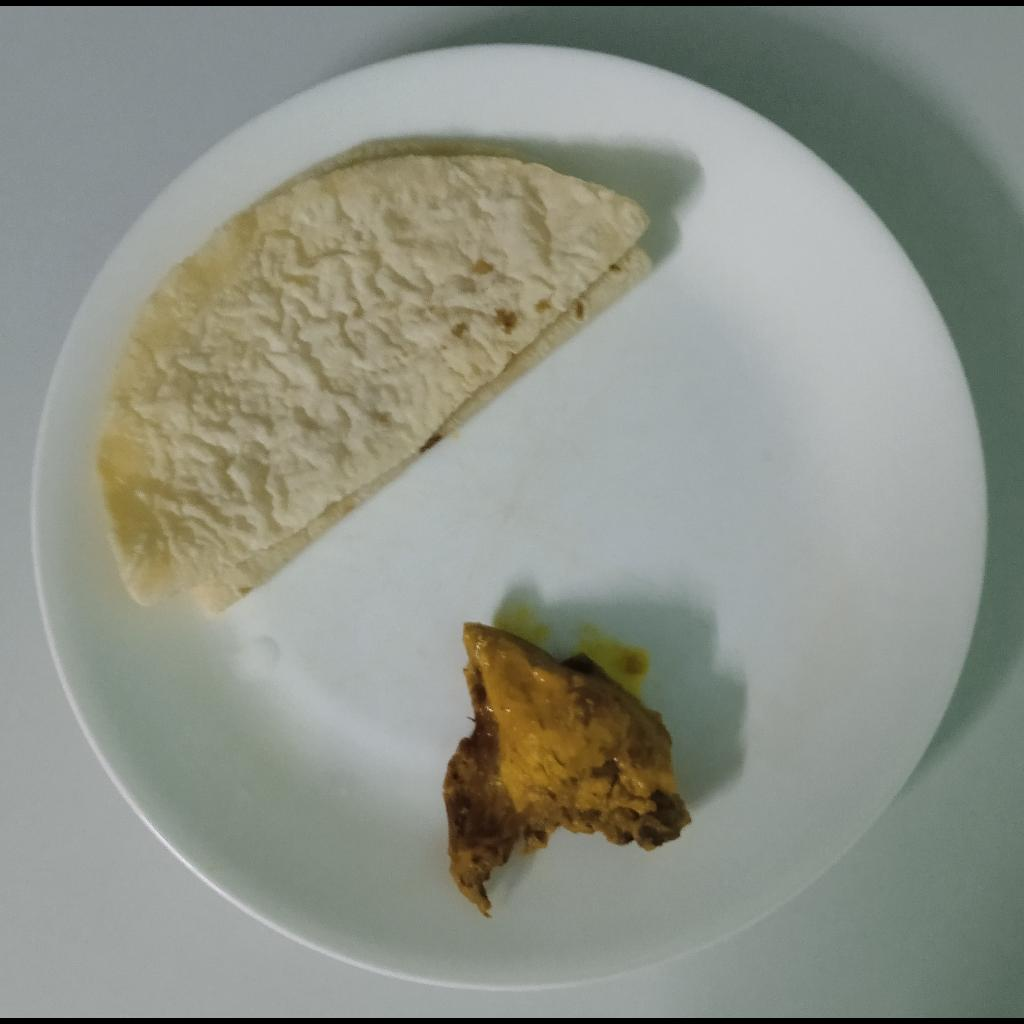chicken: (443, 622, 691, 917)
ruti: (94, 138, 655, 619)
